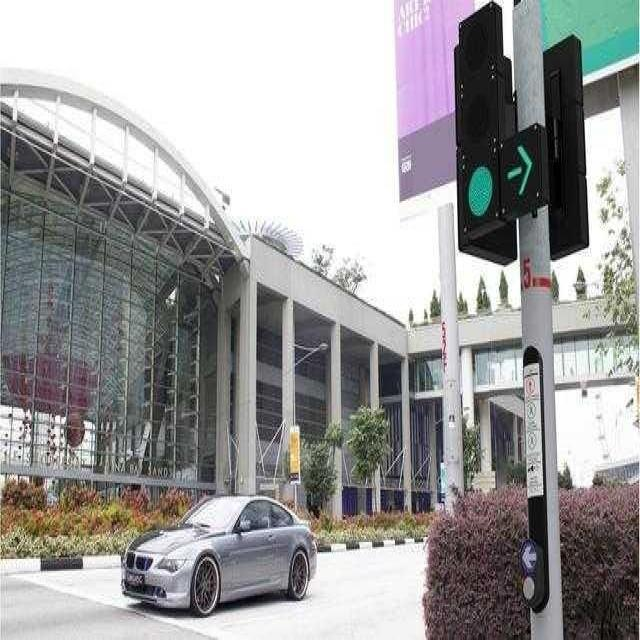red_light: (455, 11, 506, 230), (461, 79, 500, 154), (464, 148, 500, 222), (505, 136, 540, 204), (462, 18, 497, 82)
